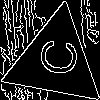C: (30, 35, 79, 78)
